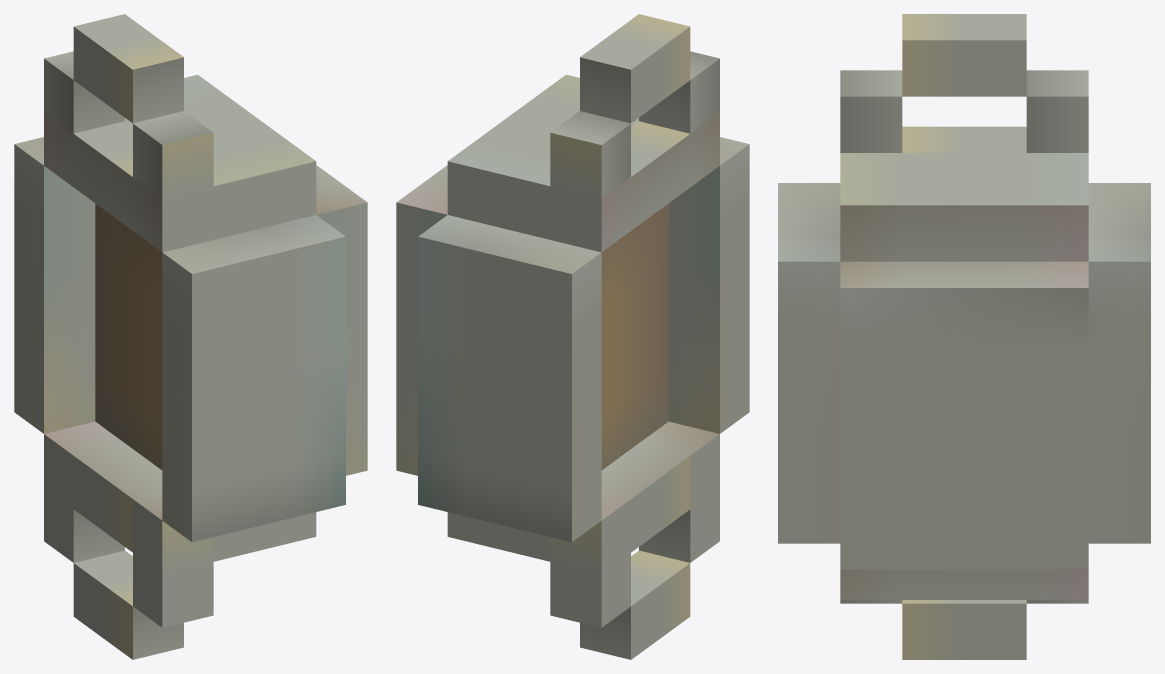
File: PotWithFood_00.fbx
3 renders of one model, left to right at view 1: azimuth 30°, elevation 25°; view 2: azimuth 150°, elevation 25°; view 3: azimuth 270°, elevation 25°, orthographic. The views are drawn at different scales.
Parts seen in each view (by area): view 1: PotWithFood_00; view 2: PotWithFood_00; view 3: PotWithFood_00.
Part boxes in pixels (x1,y1,x2,y2): PotWithFood_00: [14, 14, 367, 659]; PotWithFood_00: [396, 14, 749, 659]; PotWithFood_00: [778, 14, 1150, 659].
Bounding box in the file's own units: 20 × 30 × 55.
Materials: 1 (1 with a texture image).
